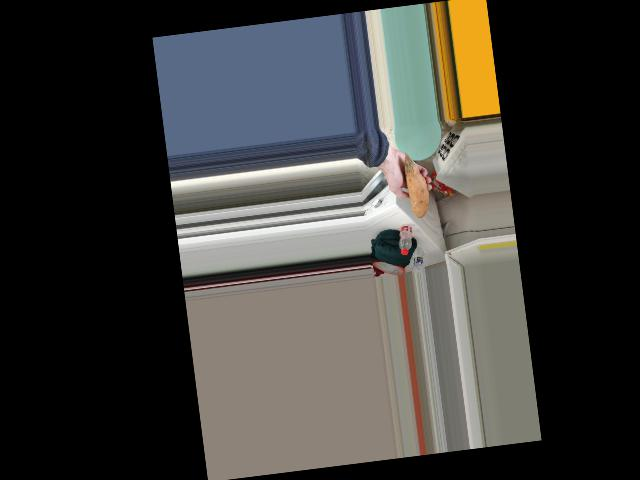sweet_potato: (402, 154, 431, 212)
